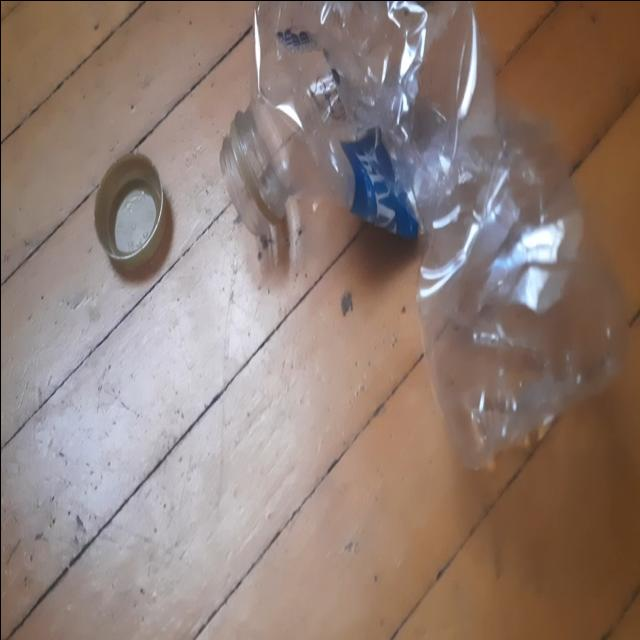Plastic: (228, 2, 626, 472)
